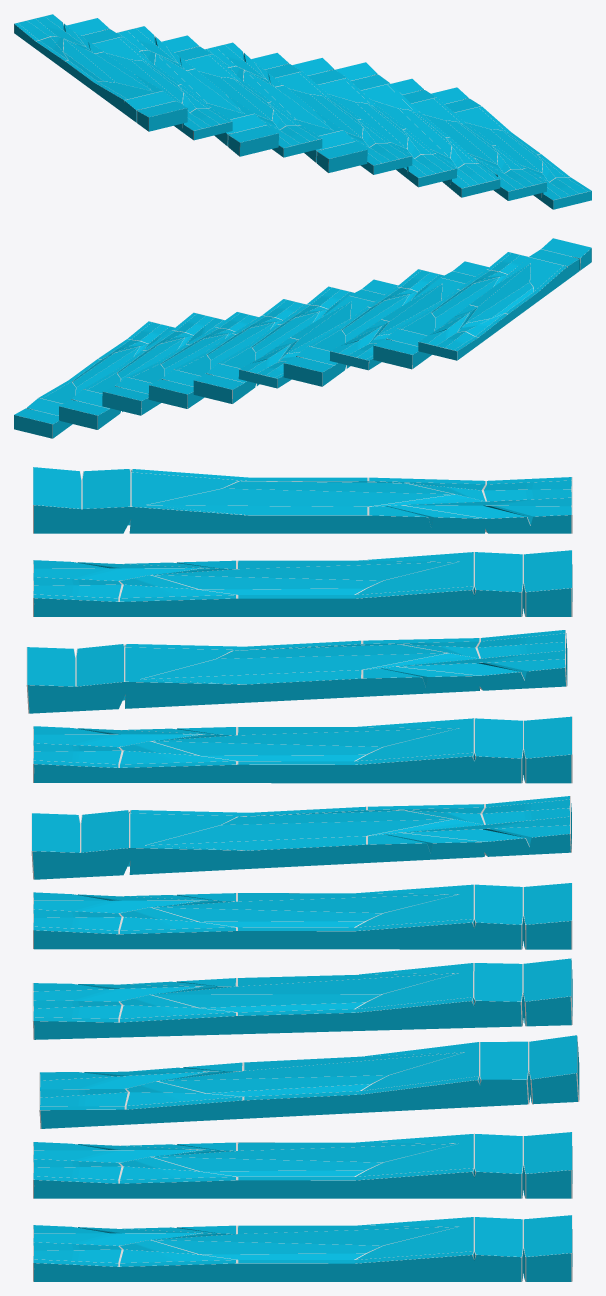
The model's file is Stairs.fbx.
3 renders of one model, top to bottom at view 1: azimuth 30°, elevation 25°; view 2: azimuth 150°, elevation 25°; view 3: azimuth 270°, elevation 25°, orthographic. The views are drawn at different scales.
Parts seen in each view (by area): view 1: Cube; view 2: Cube; view 3: Cube.
Part boxes in pixels (x1,y1,x2,y2): Cube: (14,14,591,209); Cube: (14,238,591,438); Cube: (26,467,579,1281).
Bounding box in the file's own units: 753 × 310 × 407.
